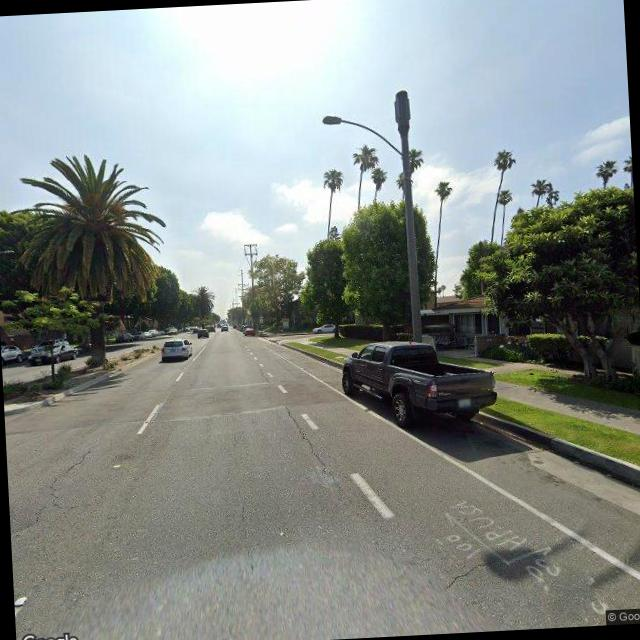crack: (6, 442, 99, 544), (284, 399, 344, 500), (439, 544, 521, 591)
